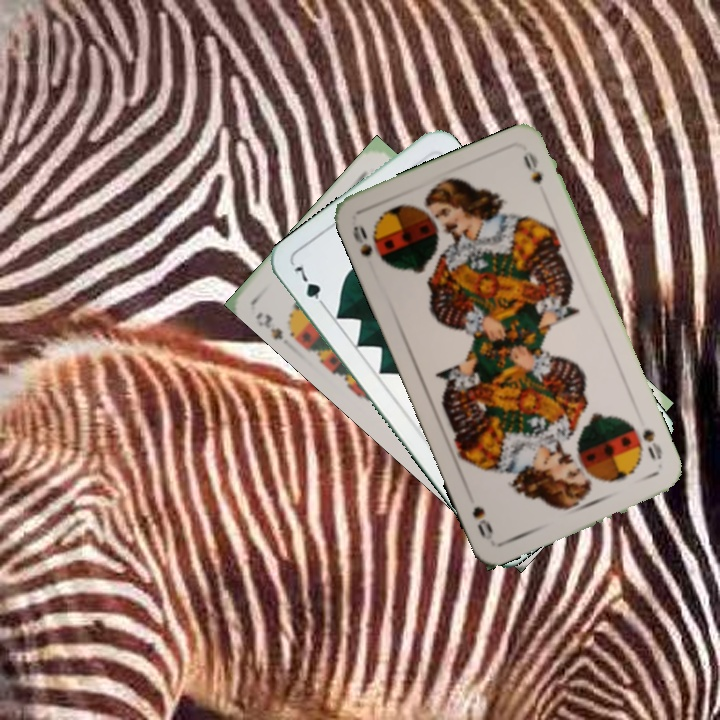G7: (289, 259, 330, 313)
S9: (251, 307, 304, 345)
SO: (348, 222, 376, 260), (638, 425, 665, 462)
